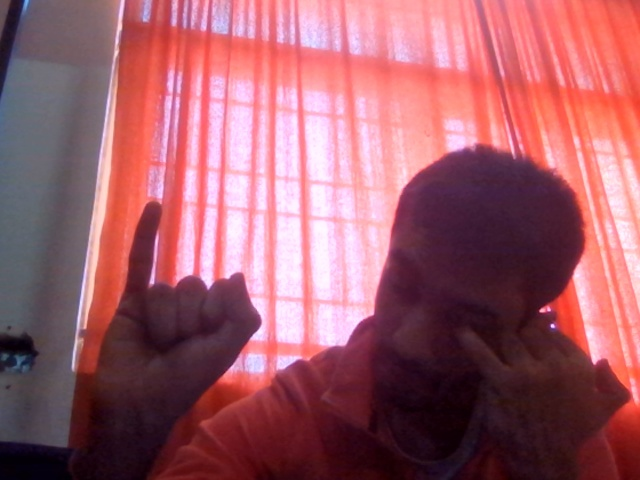I: (87, 194, 294, 480)
